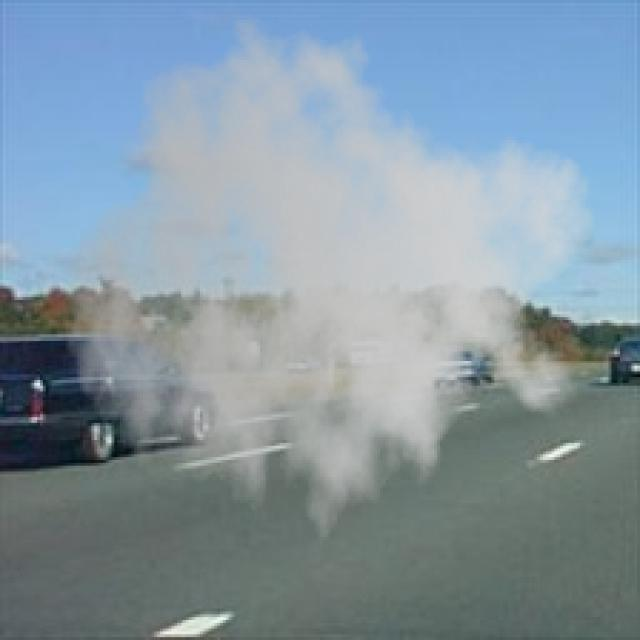smoke: (66, 0, 597, 566)
